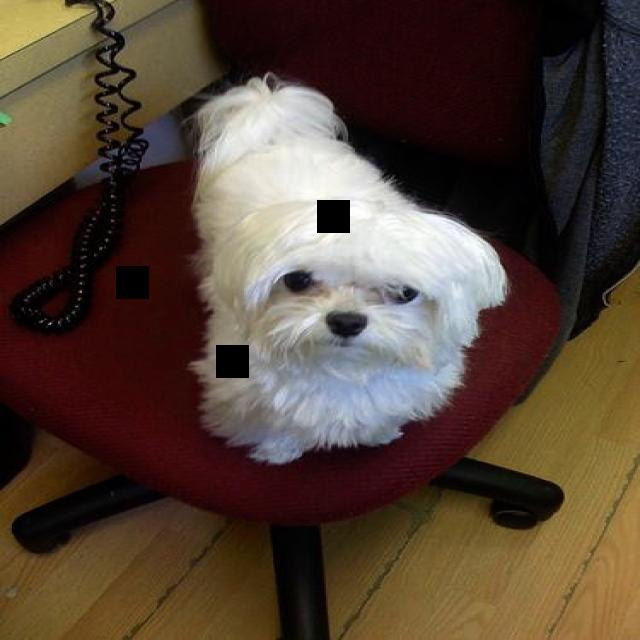adult_dog: (183, 67, 515, 468)
